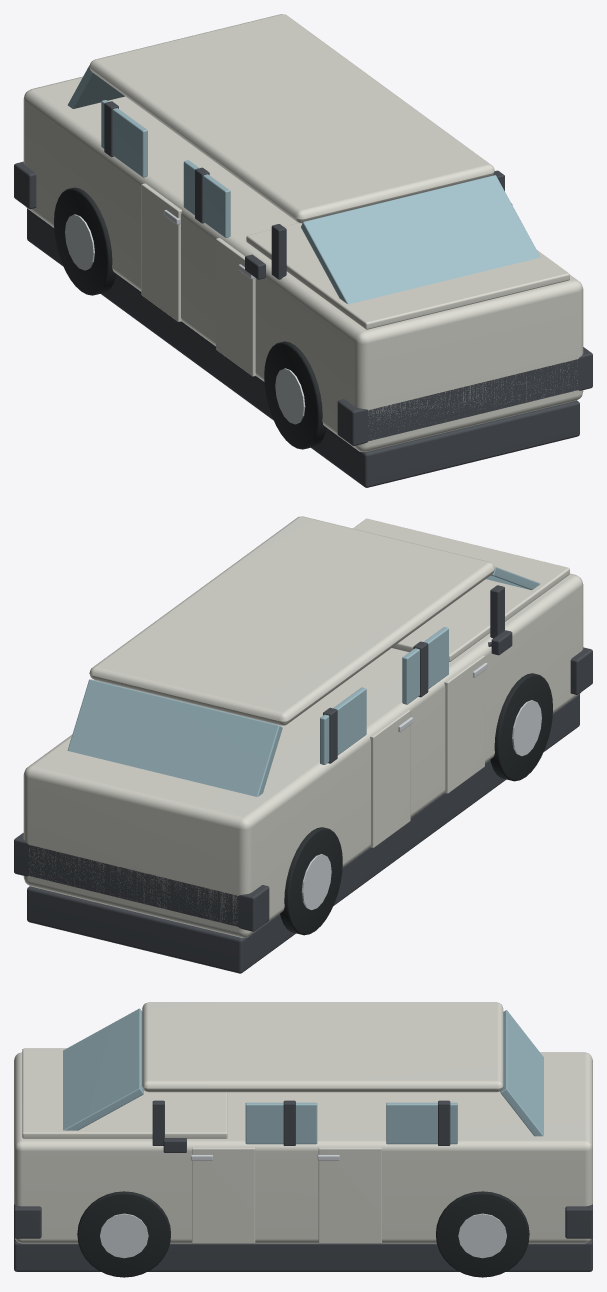
Rendered from car_saloon_a.glb.
3 views of the same model, one above another, from view 1: azimuth 30°, elevation 25°; view 2: azimuth 150°, elevation 25°; view 3: azimuth 270°, elevation 25° (orthographic). The views are drawn at different scales.
Visible parts, largest first — view 1: Tint, Windscreen, Underbody, Front bumper, Wheel tyre.002, Wheel tyre, Side window, Side window.002, Wheel hub.002, Wheel hub, Tailgate glass, Rear bumper (+1 smaller); view 2: Tint, Underbody, Tailgate glass, Rear bumper, Wheel tyre.002, Wheel tyre, Side window.002, Side window, Wheel hub.002, Wheel hub, Front bumper, Window pillar (+1 smaller); view 3: Tint, Underbody, Windscreen, Wheel tyre.001, Wheel tyre.003, Tailgate glass, Side window.001, Side window.003, Wheel hub.001, Wheel hub.003, Front bumper, Rear bumper (+3 smaller).
Boxes of the visible parts, left/top/right/bottom form: Tint: left=23, top=14, right=583, bottom=451; Windscreen: left=301, top=175, right=540, bottom=304; Underbody: left=27, top=208, right=579, bottom=487; Front bumper: left=337, top=347, right=592, bottom=445; Wheel tyre.002: left=54, top=187, right=116, bottom=295; Wheel tyre: left=264, top=341, right=326, bottom=449; Side window: left=183, top=160, right=230, bottom=237; Side window.002: left=101, top=100, right=147, bottom=177; Wheel hub.002: left=65, top=214, right=94, bottom=270; Wheel hub: left=275, top=368, right=305, bottom=424; Tailgate glass: left=68, top=65, right=124, bottom=108; Rear bumper: left=14, top=161, right=36, bottom=209; Tint: left=23, top=516, right=583, bottom=937; Underbody: left=27, top=694, right=579, bottom=973; Tailgate glass: left=67, top=679, right=282, bottom=796; Rear bumper: left=14, top=833, right=269, bottom=931; Wheel tyre.002: left=280, top=827, right=342, bottom=935; Wheel tyre: left=490, top=673, right=552, bottom=781; Side window.002: left=320, top=687, right=366, bottom=764; Side window: left=402, top=627, right=448, bottom=704; Wheel hub.002: left=301, top=854, right=331, bottom=909; Wheel hub: left=512, top=700, right=541, bottom=756; Front bumper: left=570, top=647, right=592, bottom=694; Window pillar: left=490, top=585, right=504, bottom=638; Tint: left=14, top=1002, right=592, bottom=1243; Underbody: left=14, top=1237, right=592, bottom=1271; Windscreen: left=63, top=1008, right=143, bottom=1130; Wheel tyre.001: left=77, top=1191, right=170, bottom=1277; Wheel tyre.003: left=436, top=1191, right=529, bottom=1277; Tailgate glass: left=500, top=1010, right=543, bottom=1136; Side window.001: left=245, top=1102, right=317, bottom=1144; Side window.003: left=386, top=1102, right=457, bottom=1144; Wheel hub.001: left=100, top=1213, right=148, bottom=1258; Wheel hub.003: left=458, top=1213, right=506, bottom=1258; Front bumper: left=14, top=1204, right=41, bottom=1238; Rear bumper: left=565, top=1204, right=592, bottom=1238.
Bounding box in the file's own units: 1.82 × 1.5 × 4.2.
